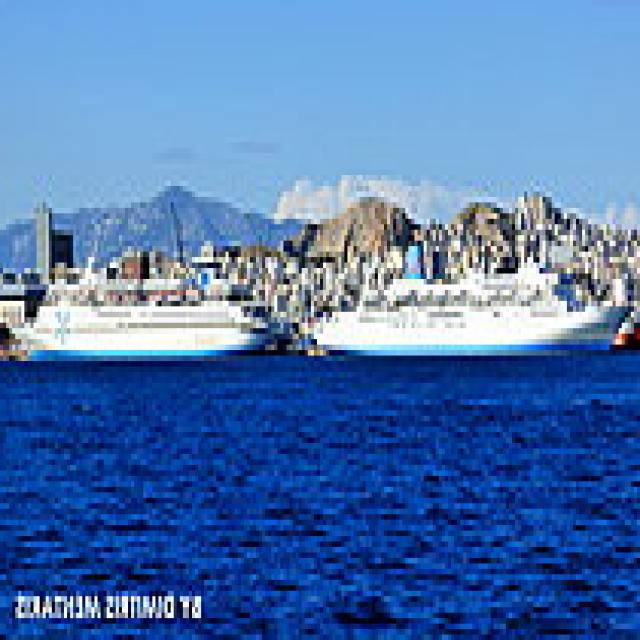Cruise: (314, 230, 640, 356), (24, 252, 296, 361)
